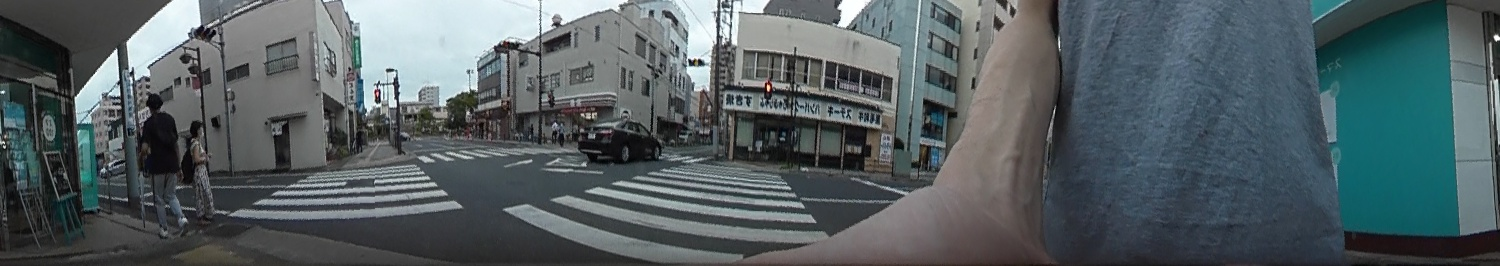difficult_person: (354, 126, 363, 153), (557, 120, 565, 146), (550, 118, 558, 142)
person: (136, 88, 187, 237), (185, 115, 220, 222)
